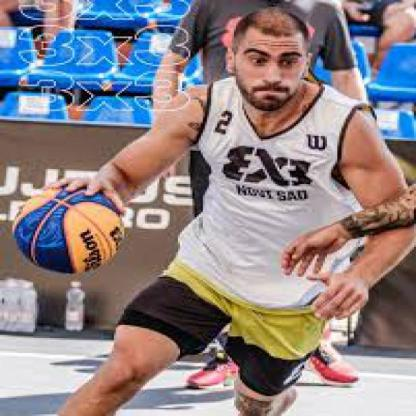basketball: (12, 189, 124, 273)
